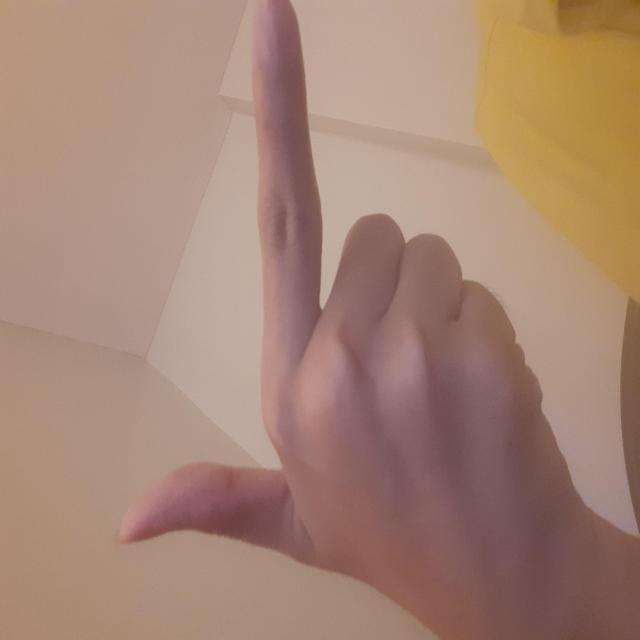G: (89, 115, 640, 567)
